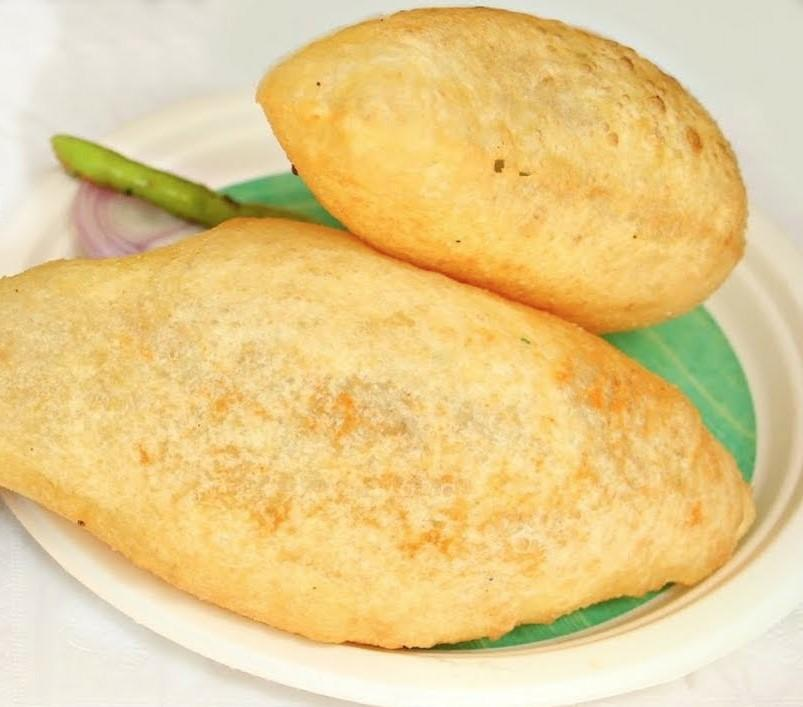Bhatura: (0, 219, 759, 652), (256, 6, 749, 334)
